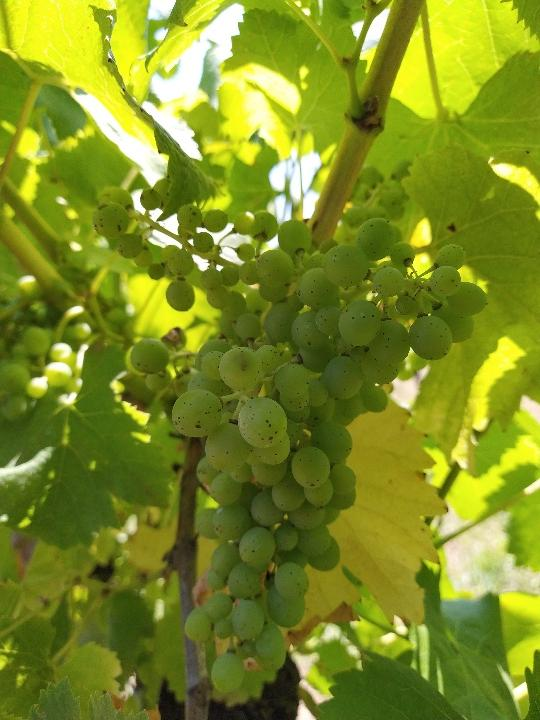grape: (92, 179, 491, 698)
